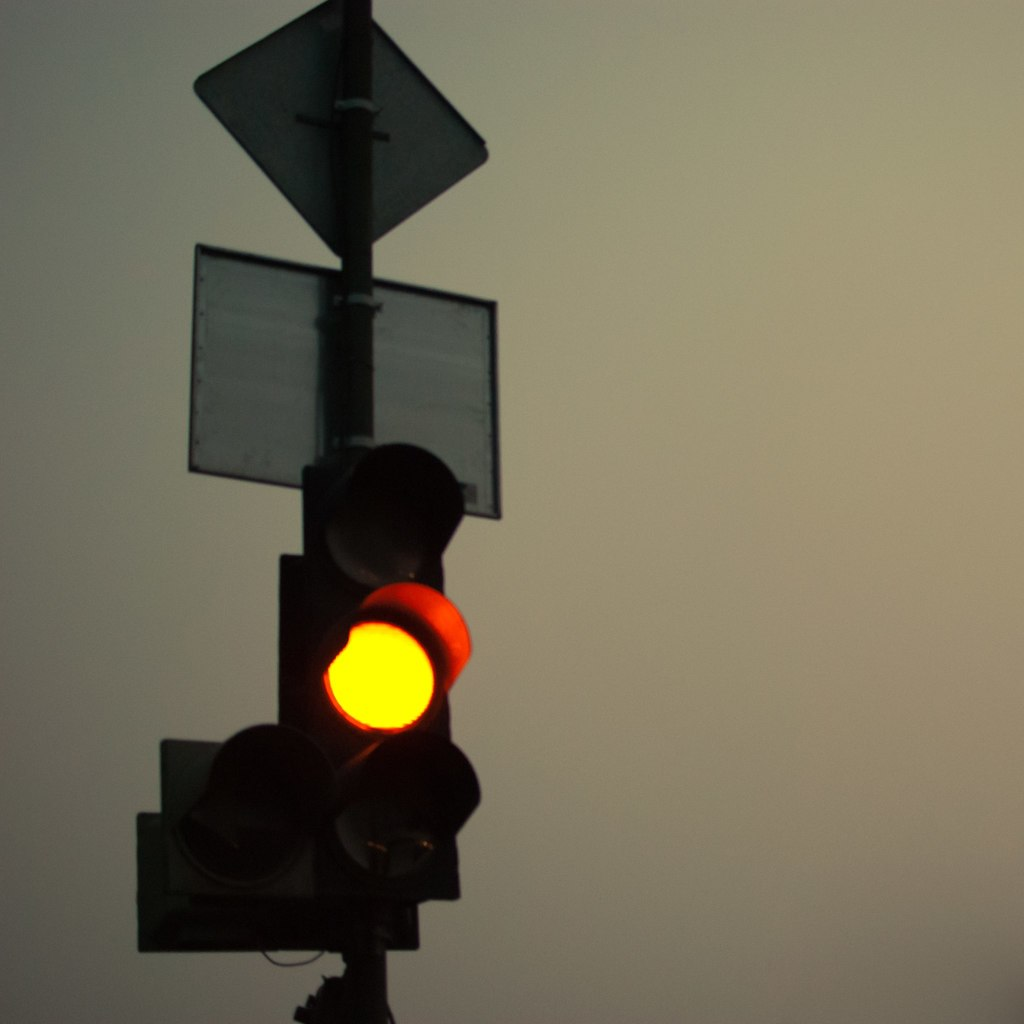yellow_light: (325, 601, 446, 735)
